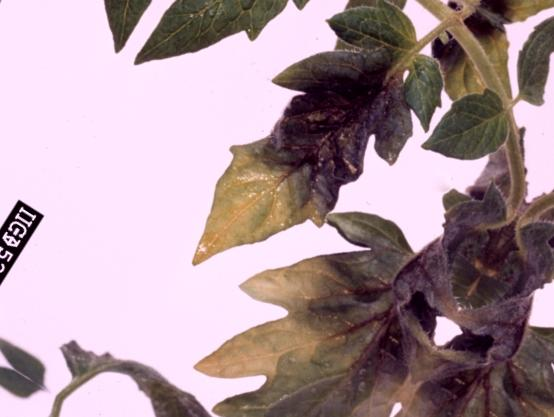Tomato leaf late blight: (156, 0, 466, 333), (140, 173, 478, 417), (119, 0, 375, 151)
